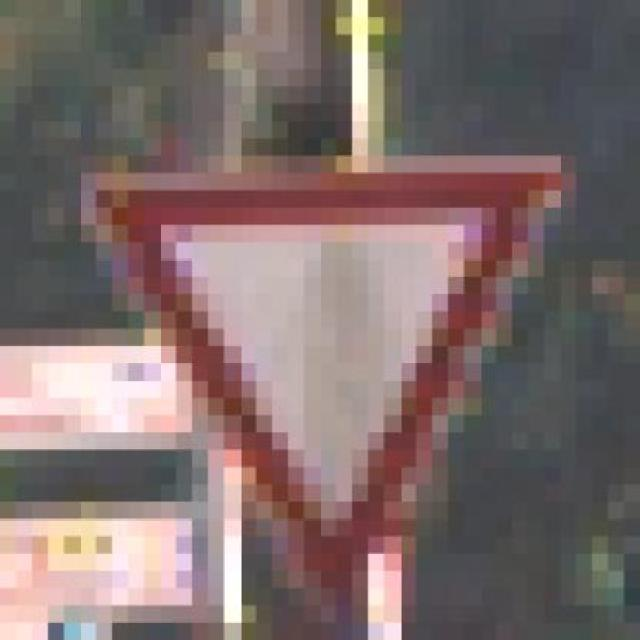Give Way: (48, 139, 624, 623)
